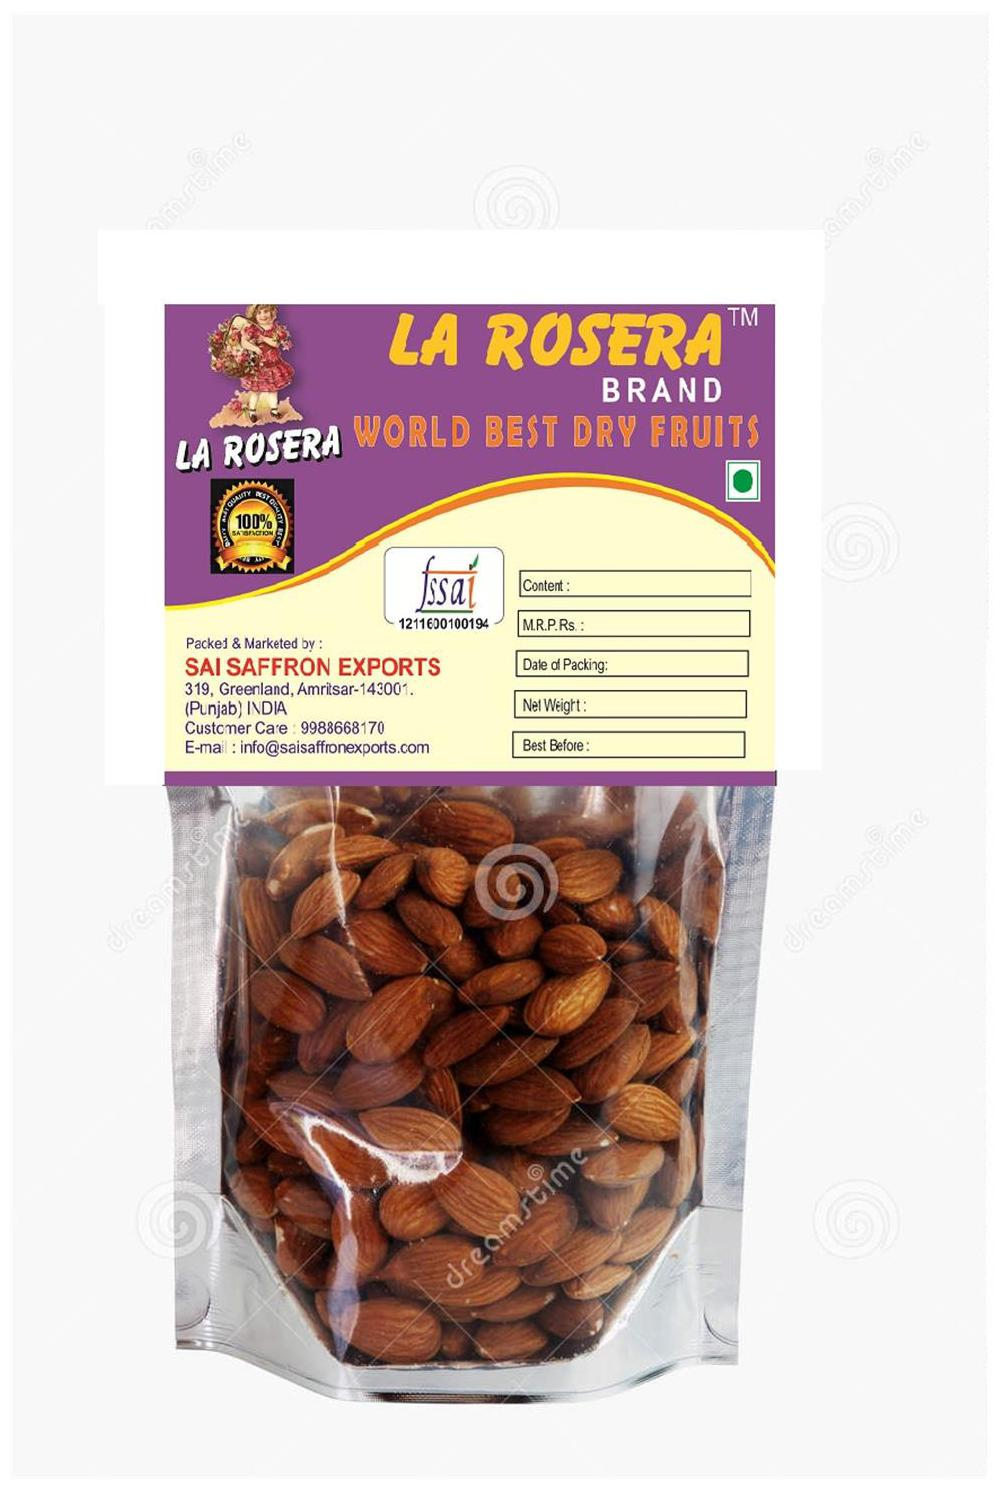fssai: (415, 553, 480, 613)
